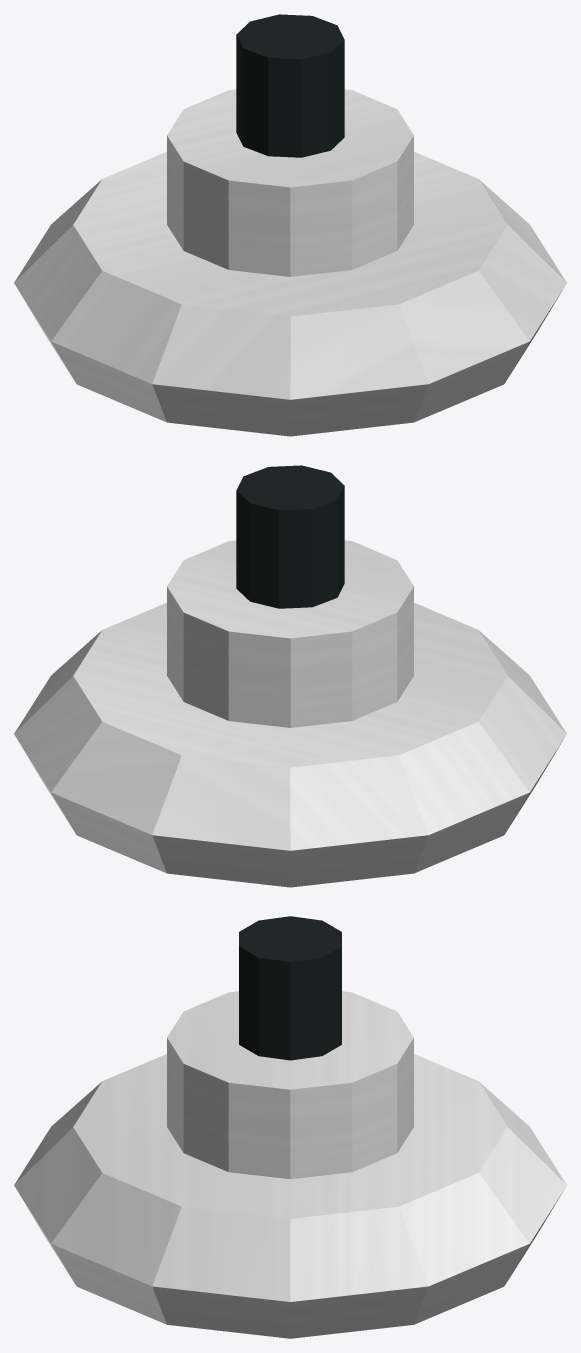
Rendered from lightball.obj.
The picture shows the model from 3 angles, top to bottom: view 1: azimuth 30°, elevation 25°; view 2: azimuth 150°, elevation 25°; view 3: azimuth 270°, elevation 25°; orthographic projection.
Visible parts, largest first — view 1: lightball; view 2: lightball; view 3: lightball.
Boxes of the visible parts, <box> form: lightball: <box>14,14,566,436</box>; lightball: <box>14,465,566,887</box>; lightball: <box>14,916,566,1338</box>.
Size of the model in its own units: 0.56 by 0.33 by 0.56.
